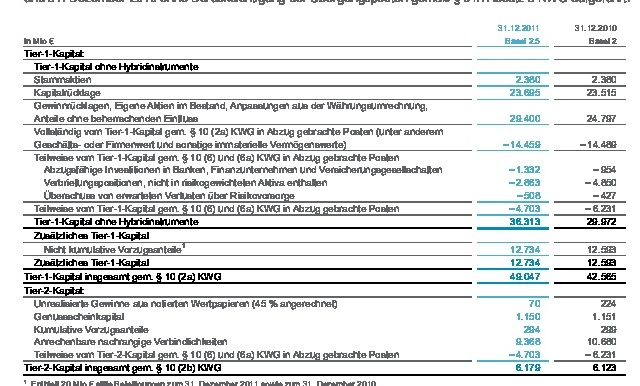table: (0, 0, 640, 386)
